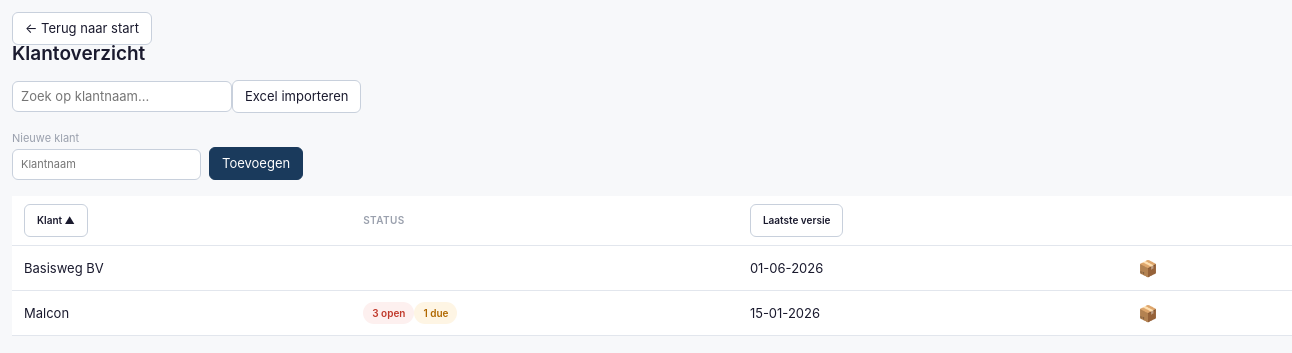
Test: KlantoverzichtPage › toont klanten met hun open/due-badges, laatste versiedatum en filtert op zoekterm
This screenshot has width=1292, height=353.
Expected: the text "Malcon" is shown, 12,291 -> 351,336
Expected: the text "Basisweg BV" is shown, 12,246 -> 351,291
In the field named "Zoek klant": [122, 96] box 12,81 -> 232,112, type "malcon"
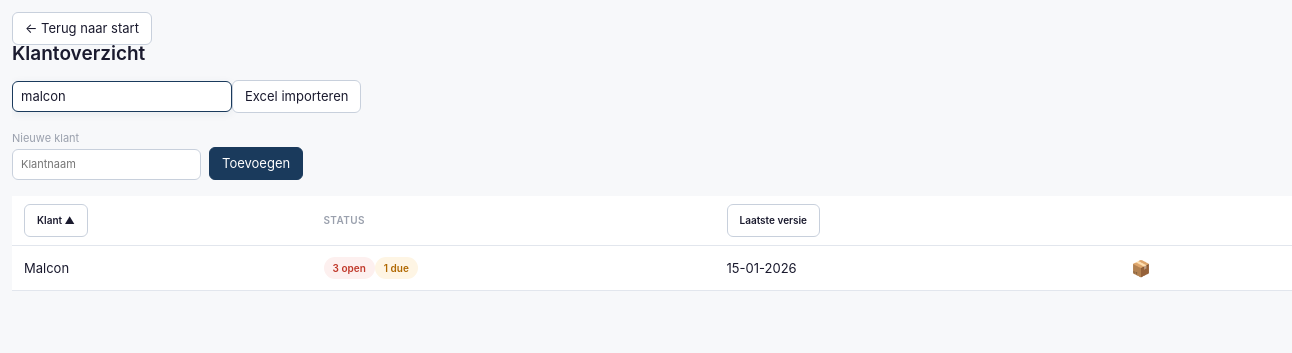
Expected: the text "Malcon" is shown, 12,246 -> 312,291
Expected: the text "Basisweg BV" is gone
